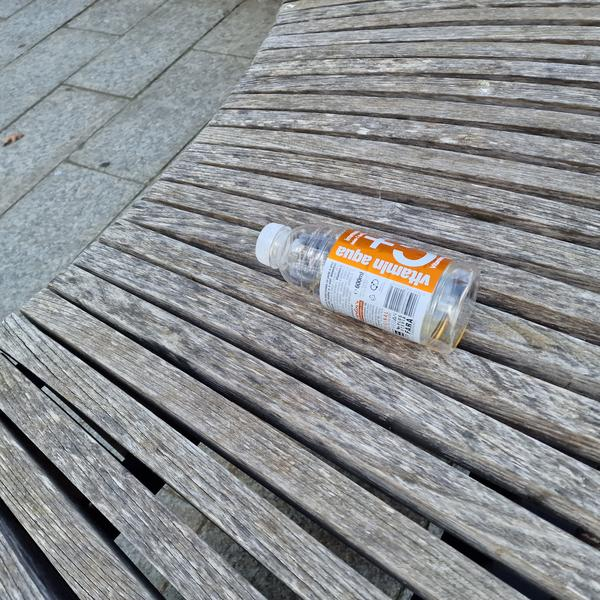plastic_bottle: (241, 202, 488, 359)
